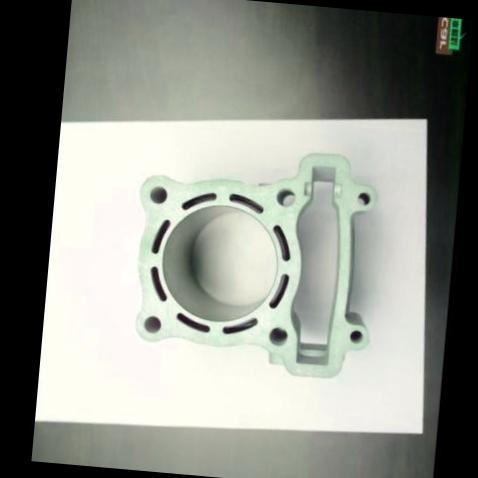hole: (275, 185, 300, 209), (268, 324, 290, 348), (143, 314, 165, 336), (148, 185, 170, 207), (348, 330, 366, 345), (356, 190, 372, 205)
